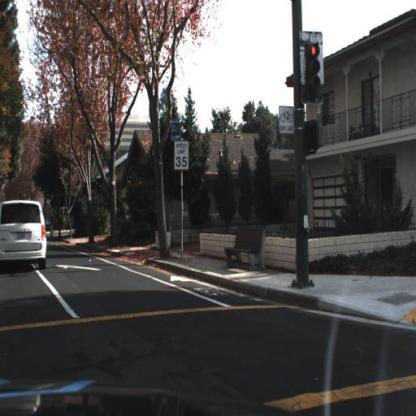car: (1, 197, 50, 270)
trafficLight-Red: (308, 44, 320, 99)
